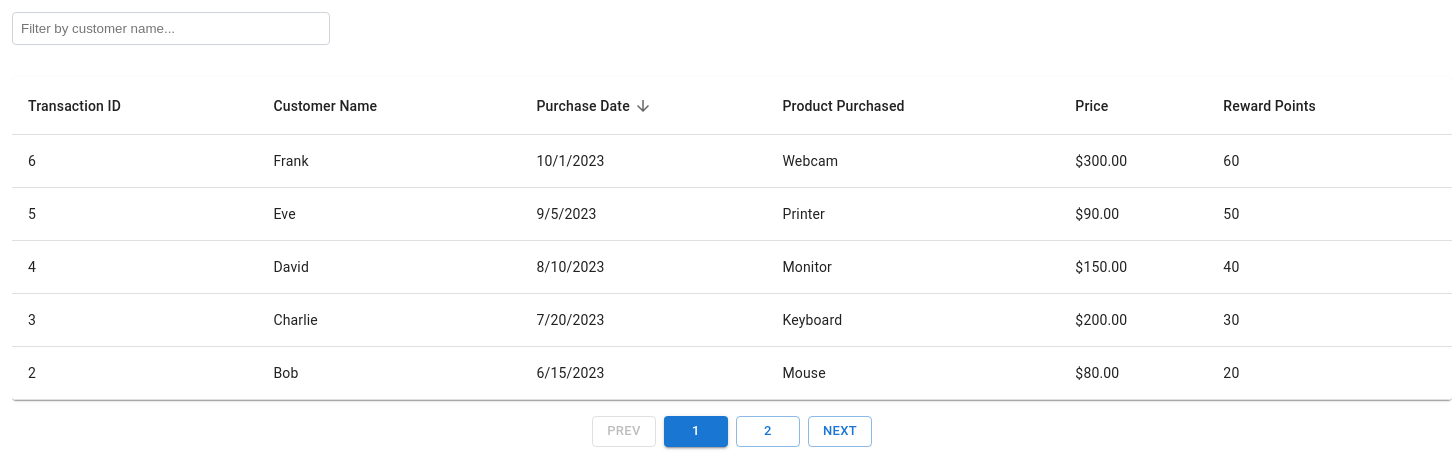
Scenario: TransactionsTable › sorts by Price descending when clicking Price header twice
Click the button "Price" at (1092, 106), box [1075,98,1108,114]
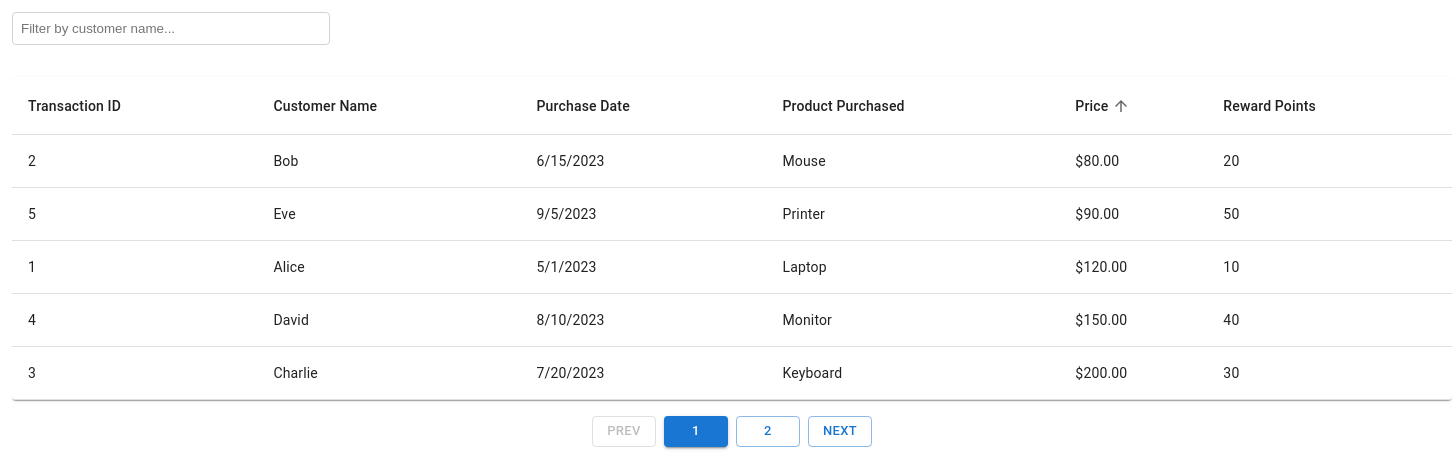
Click the button "Price" at (1105, 106), box [1075,94,1134,118]
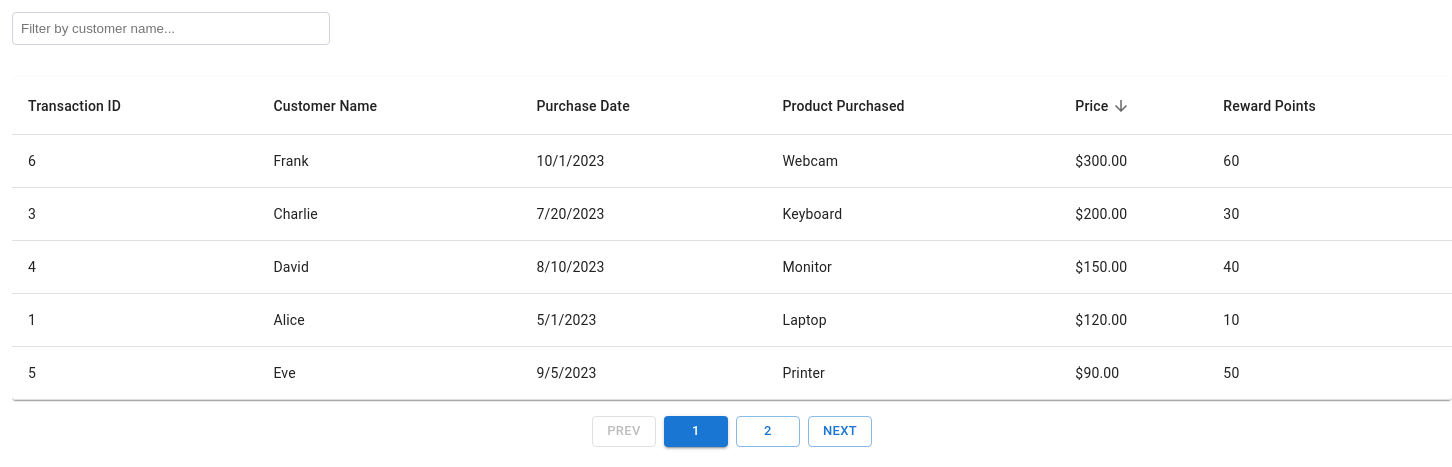
Expected: the row "5 Eve 9/5/2023 Printer $90.00 50" is shown, [12,347,1451,400]
Result: the row "6 Frank 10/1/2023 Webcam $300.00 60" is shown at [12,135,1451,188]
